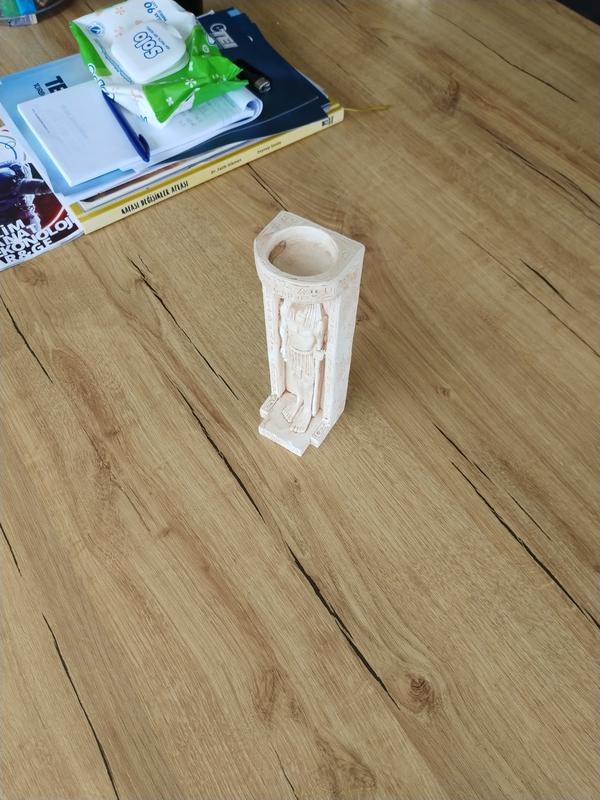heykel: (247, 206, 373, 462)
